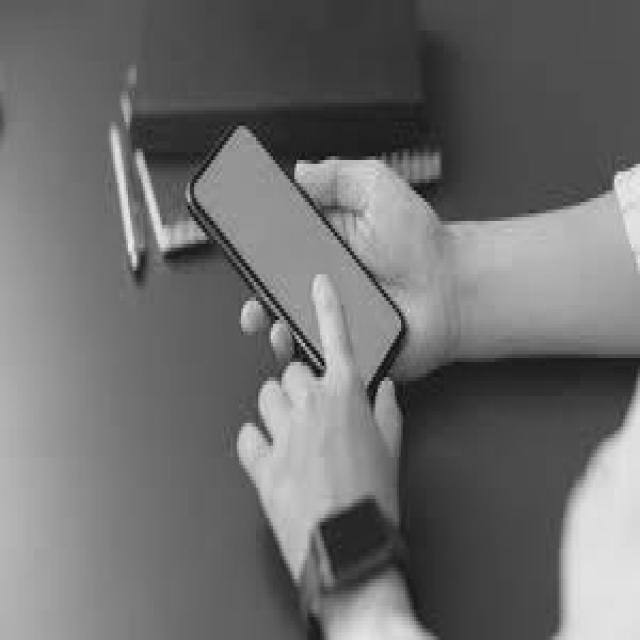No gun_phone: (186, 119, 408, 406)
